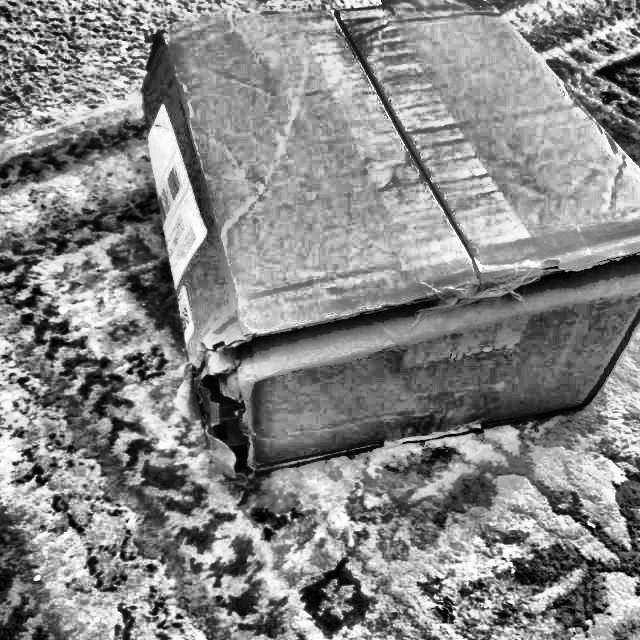box: (108, 3, 640, 479)
hole: (194, 338, 262, 472)
